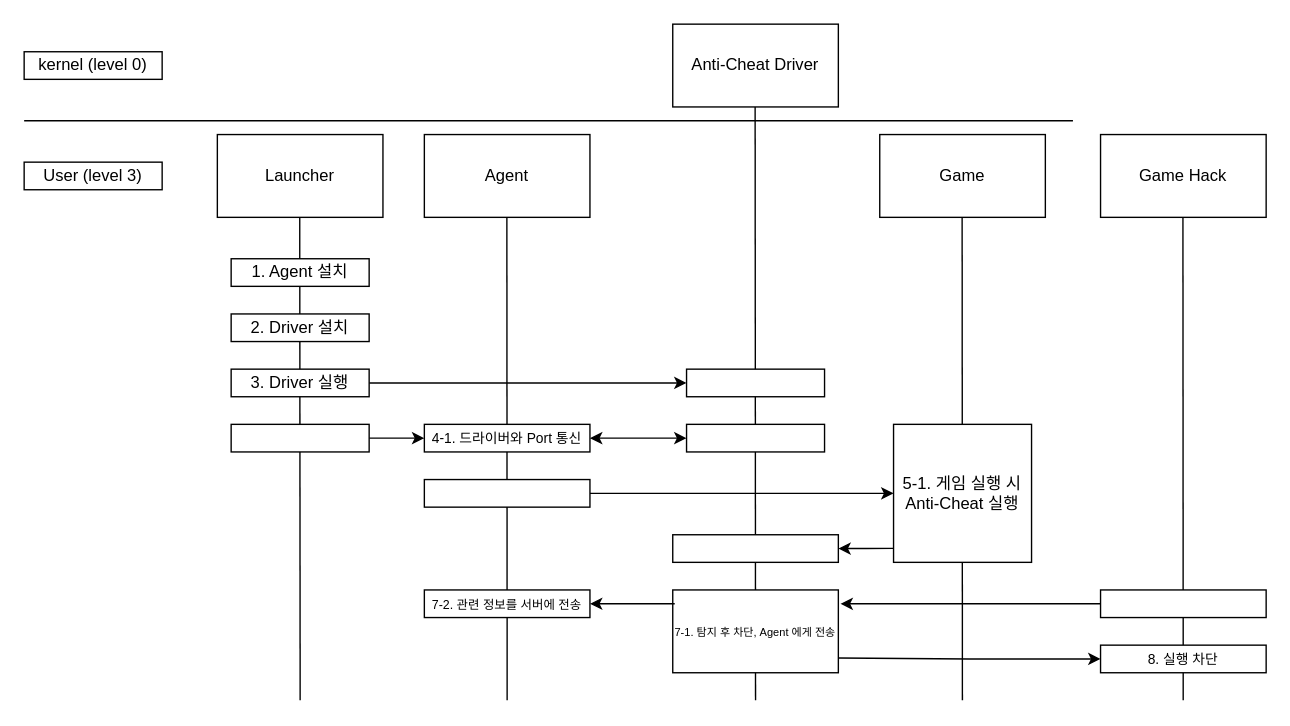
Some shapes in this 1290 by 726 pixel diagram are drawn without their labels. Here are the shapes that lost their labels. From the top down, the centre of each, then its label:
point (755, 382): 3-1. 자가 보호 수행
point (299, 437): 4. Agent 실행
point (755, 437): 4-2. Port Open
point (506, 492): 5. 통신 성공 시 게임 실행
point (754, 547): 6. Anti-Cheat 수행
point (1182, 603): 7. 게임 핵 인젝션
